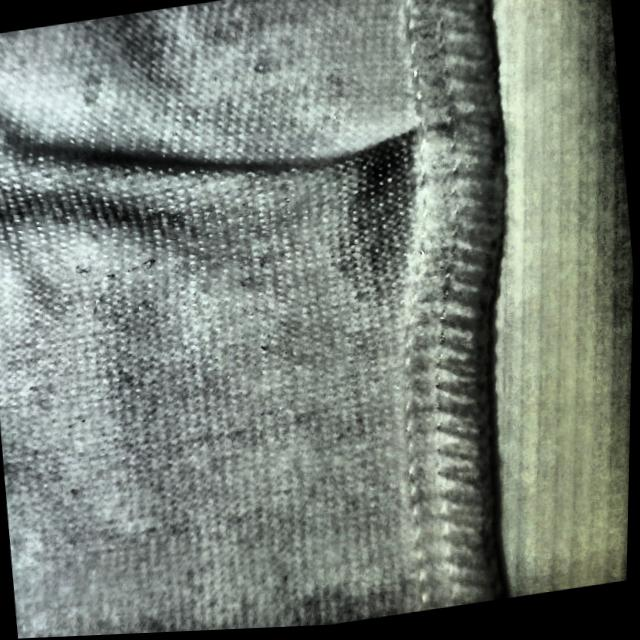seam: (191, 93, 509, 237)
